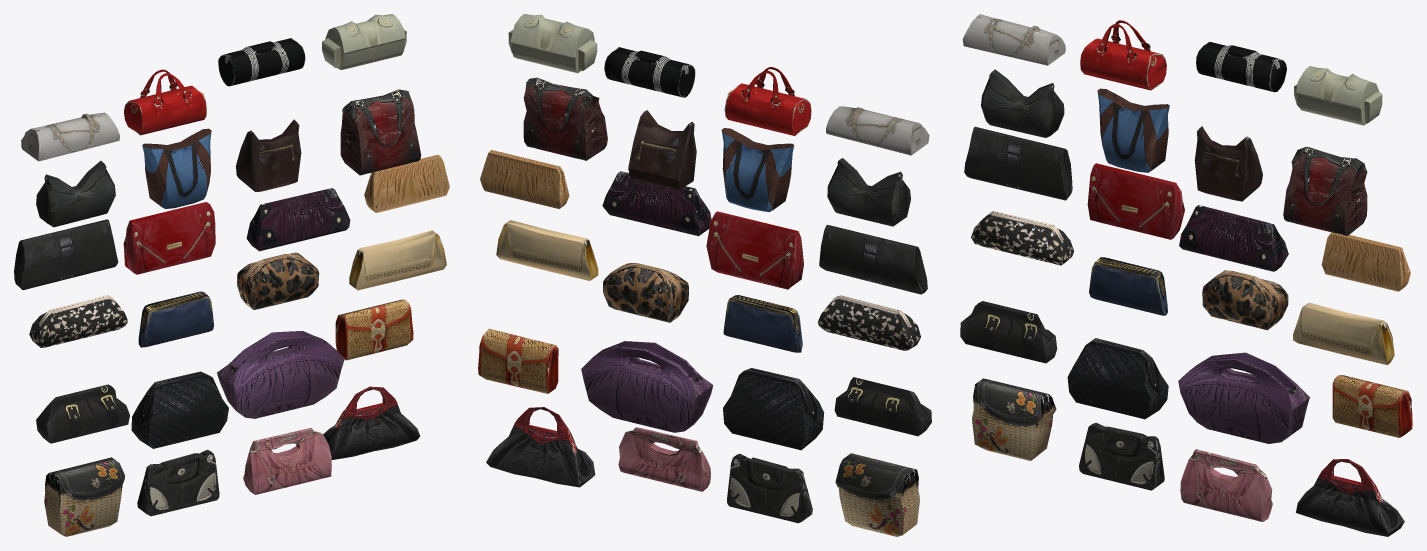
File: bags-1.FBX
3 views of the same model, side by side, from view 1: azimuth 30°, elevation 25°; view 2: azimuth 150°, elevation 25°; view 3: azimuth 330°, elevation 25° (orthographic). The views are drawn at different scales.
Parts seen in each view (by area): view 1: Object023, Object007, Object021, Object020, Object012, Object011, Object013, Object02, Object009, Object01, Object022, Object015 (+12 smaller); view 2: Object023, Object021, Object012, Object020, Object007, Object01, Object011, Object009, Object013, Object022, Object02, Object015 (+12 smaller); view 3: Object023, Object007, Object021, Object011, Object012, Object020, Object013, Object02, Object01, Object009, Object022, Object015 (+12 smaller).
Part boxes in pixels (x1,y1,x2,y2): Object023: (217, 331, 344, 418); Object007: (340, 89, 421, 175); Object021: (131, 371, 228, 448); Object020: (44, 457, 124, 536); Object012: (123, 202, 215, 274); Object011: (14, 219, 118, 289); Object013: (246, 188, 350, 251); Object02: (243, 428, 331, 494); Object009: (142, 128, 211, 208); Object01: (323, 386, 420, 459); Object022: (137, 449, 219, 516); Object015: (349, 230, 446, 290); Object023: (581, 341, 713, 432); Object021: (723, 368, 824, 450); Object012: (706, 211, 803, 289); Object020: (835, 453, 919, 536); Object007: (523, 77, 607, 160); Object01: (486, 407, 595, 487); Object011: (819, 224, 927, 294); Object009: (721, 128, 794, 211); Object013: (602, 171, 711, 236); Object022: (727, 453, 812, 523); Object02: (618, 427, 710, 491); Object015: (496, 220, 598, 280); Object023: (1178, 352, 1309, 443); Object007: (1283, 146, 1367, 236); Object021: (1067, 338, 1168, 419); Object011: (964, 126, 1072, 200); Object012: (1087, 163, 1184, 239); Object020: (972, 378, 1056, 460); Object013: (1179, 205, 1288, 271); Object02: (1180, 449, 1272, 521); Object01: (1296, 459, 1404, 536); Object009: (1097, 88, 1169, 172); Object022: (1079, 422, 1164, 490); Object015: (1293, 303, 1394, 364).
Size of the model in its own units: 69.68 by 68.2 by 11.97.
